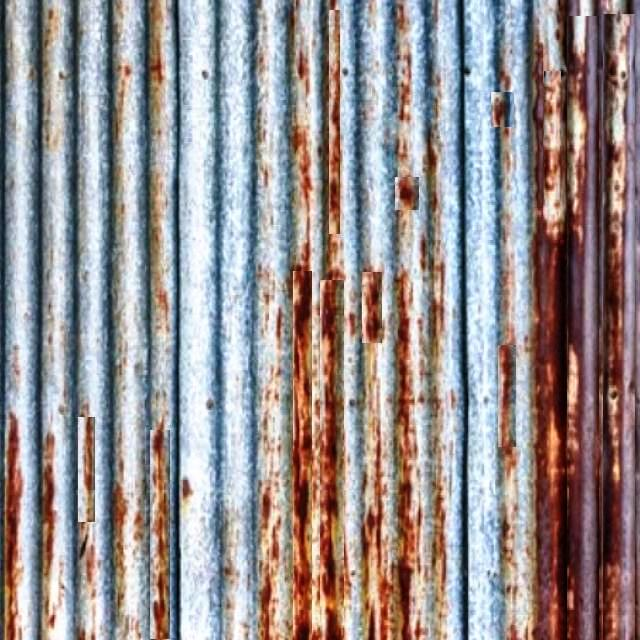Corrosion: (538, 15, 638, 640), (394, 261, 428, 640), (310, 280, 344, 640), (3, 411, 36, 640), (293, 270, 313, 640), (363, 272, 384, 344), (395, 177, 420, 210)
